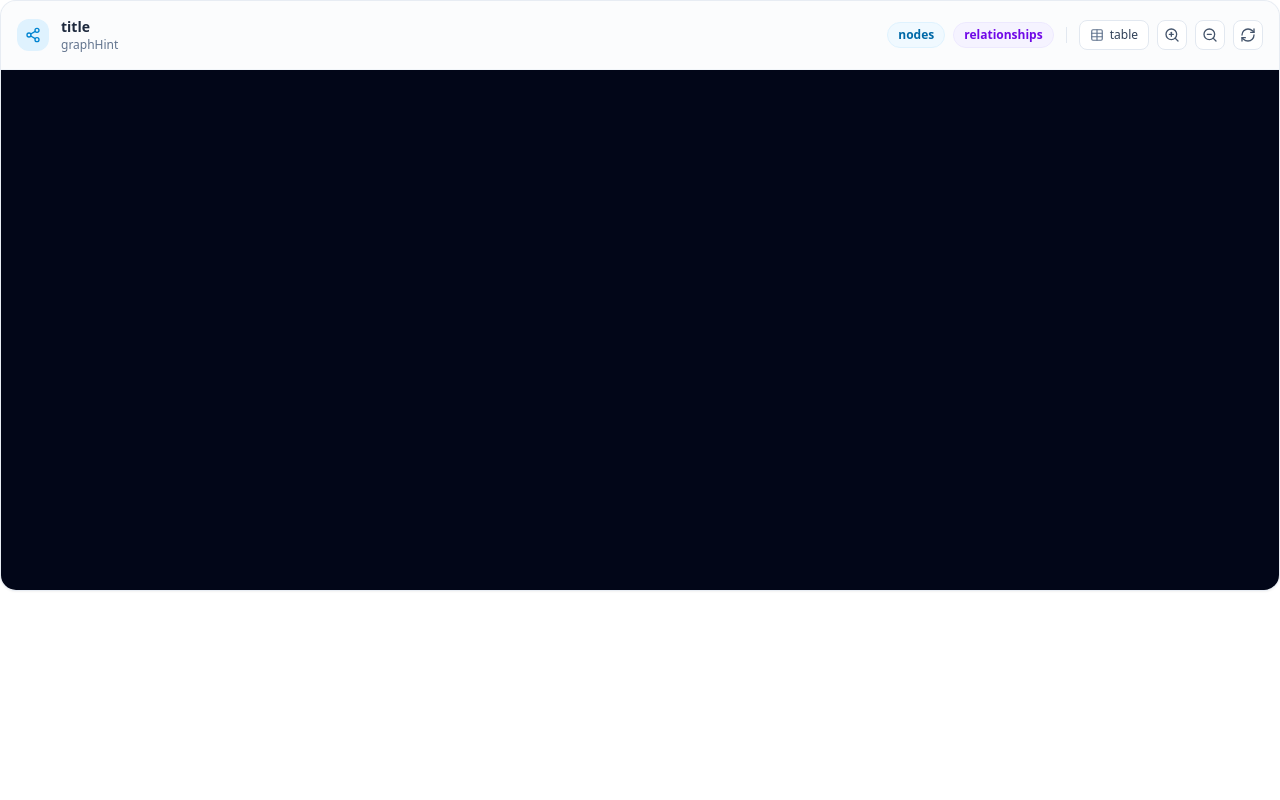
Scenario: Analytics & Graph Components › KnowledgeGraphViewer & Skeleton › renders dual view mode and allows switching to accessible table view
Expected: the heading "title" is shown, [61, 17, 90, 36]
// Click Table toggle button
Click the button with aria-label "toTable": {"x": 1114, "y": 35} [1079, 20, 1149, 50]
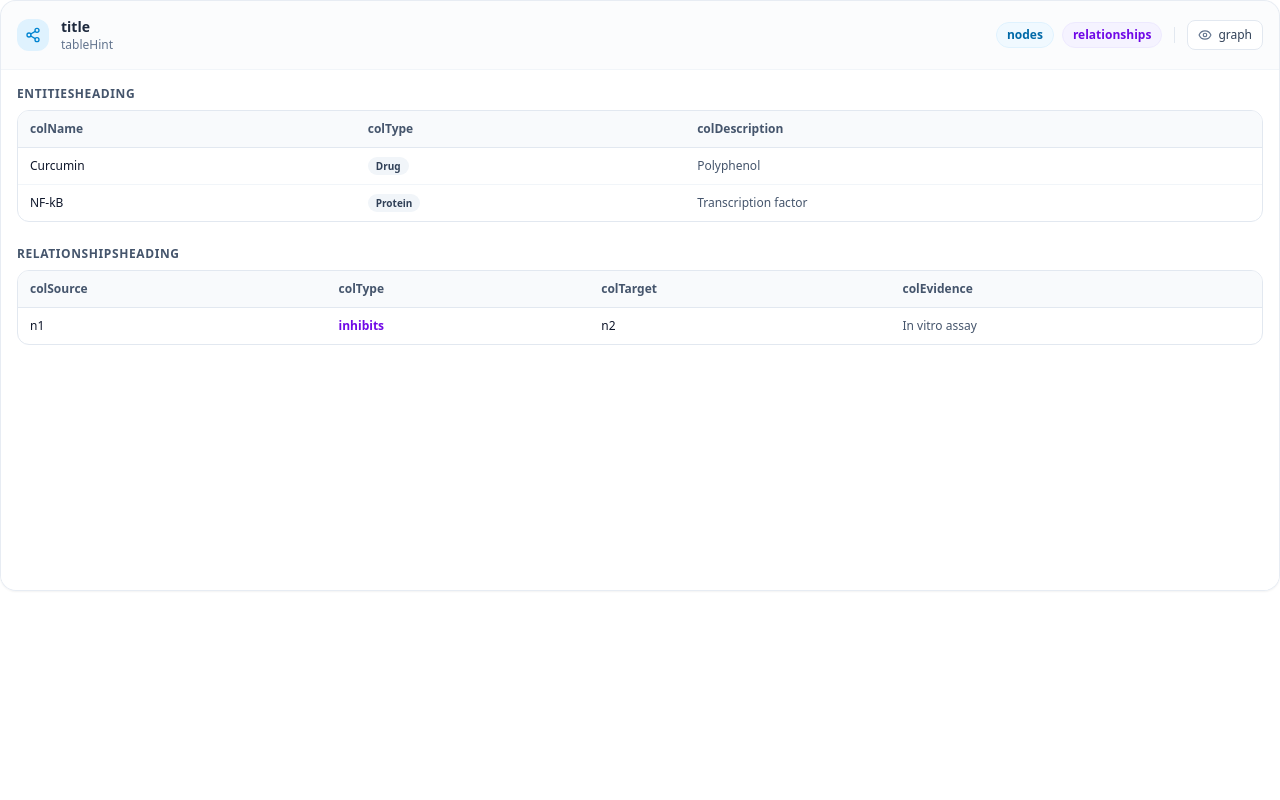
Now the heading "entitiesHeading" is shown, box [17, 85, 135, 102]
Now the text "Curcumin" is shown, box [18, 148, 356, 184]
Now the text "NF-kB" is shown, box [18, 184, 356, 221]
